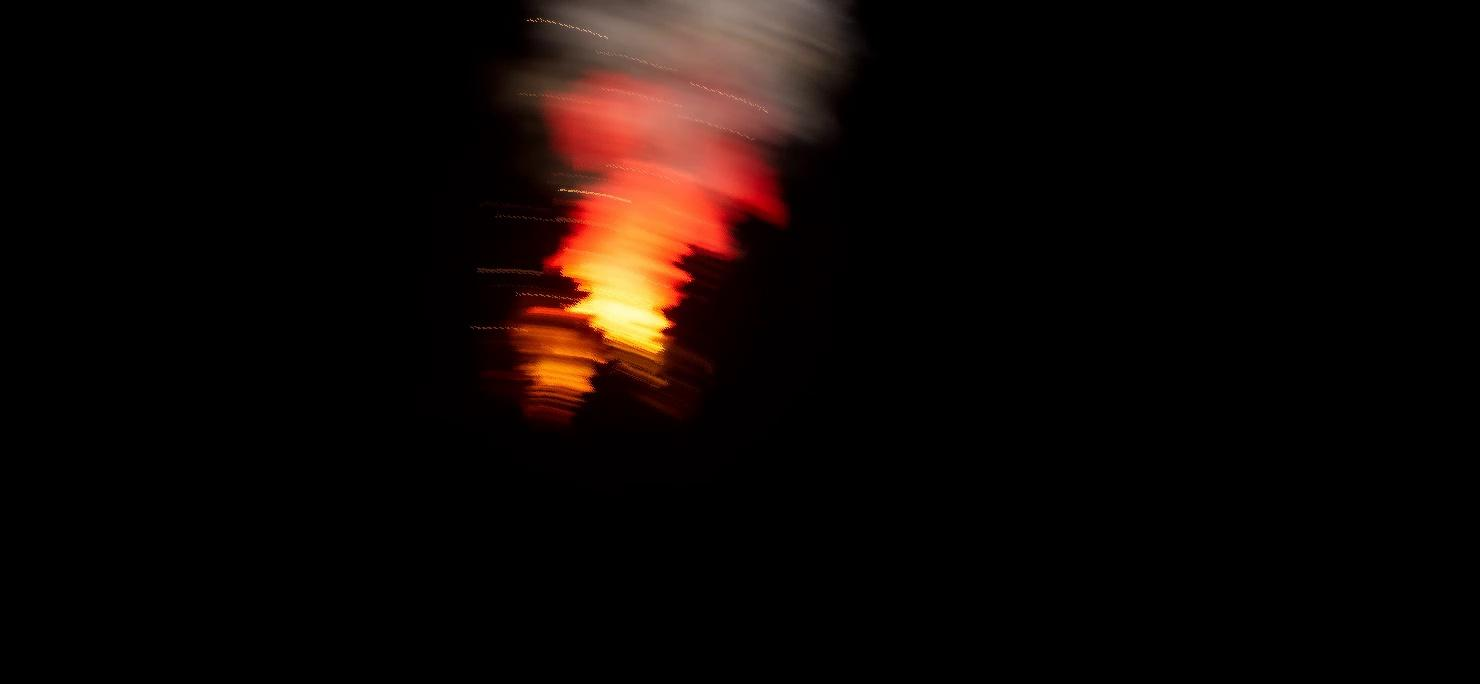smoke: (517, 75, 785, 410), (528, 0, 834, 124)
